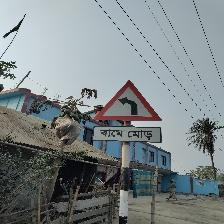Left-Turn: (92, 80, 164, 144)
